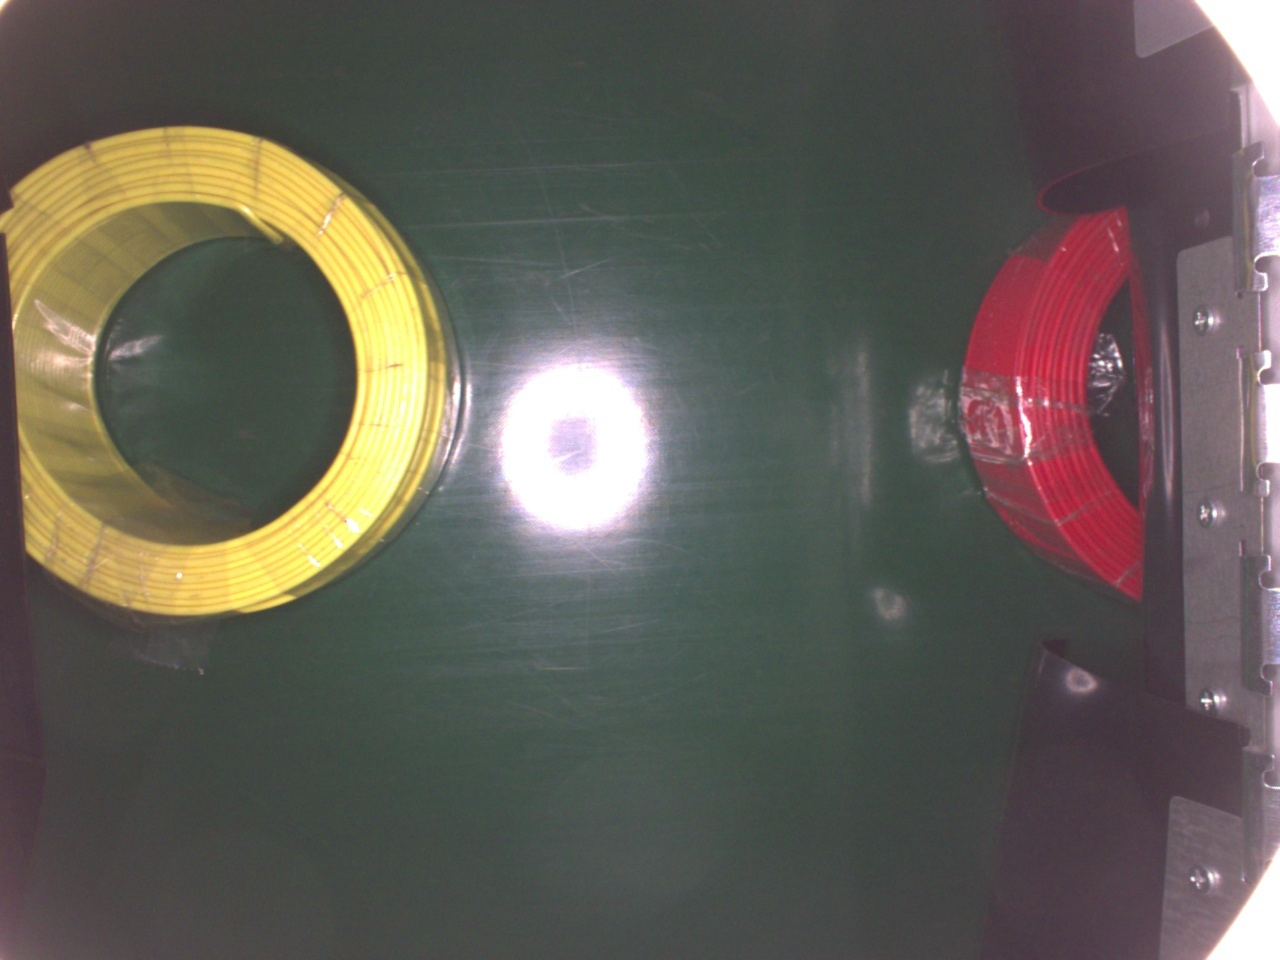red: (963, 203, 1157, 606)
yellow: (0, 123, 462, 618)
